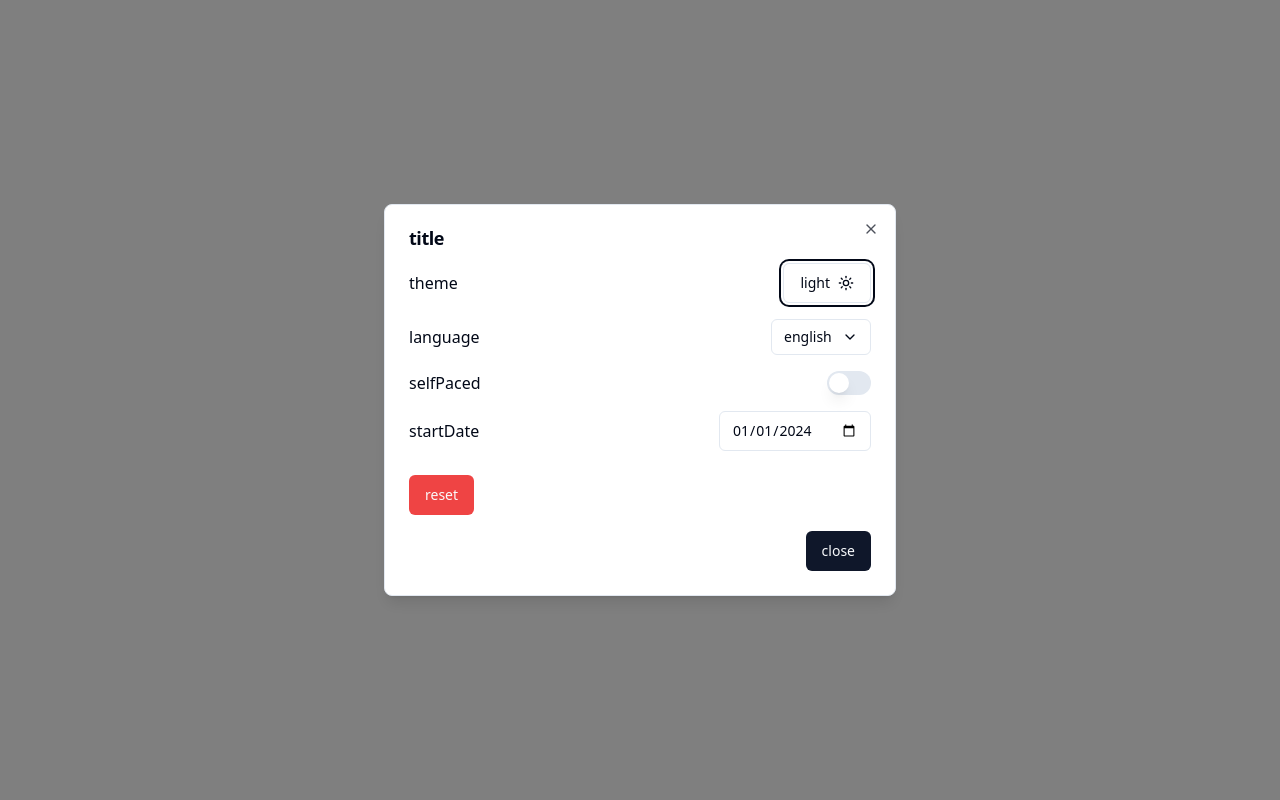
it: SettingsDialog › Theme Switcher › should cycle through light, dark, and system themes
This screenshot has width=1280, height=800.
Expected: the text "light" is shown, [800,273,830,293]
Step 1. Click the button with aria-label "toggleTheme" → (827, 283), box [784,263,871,303]
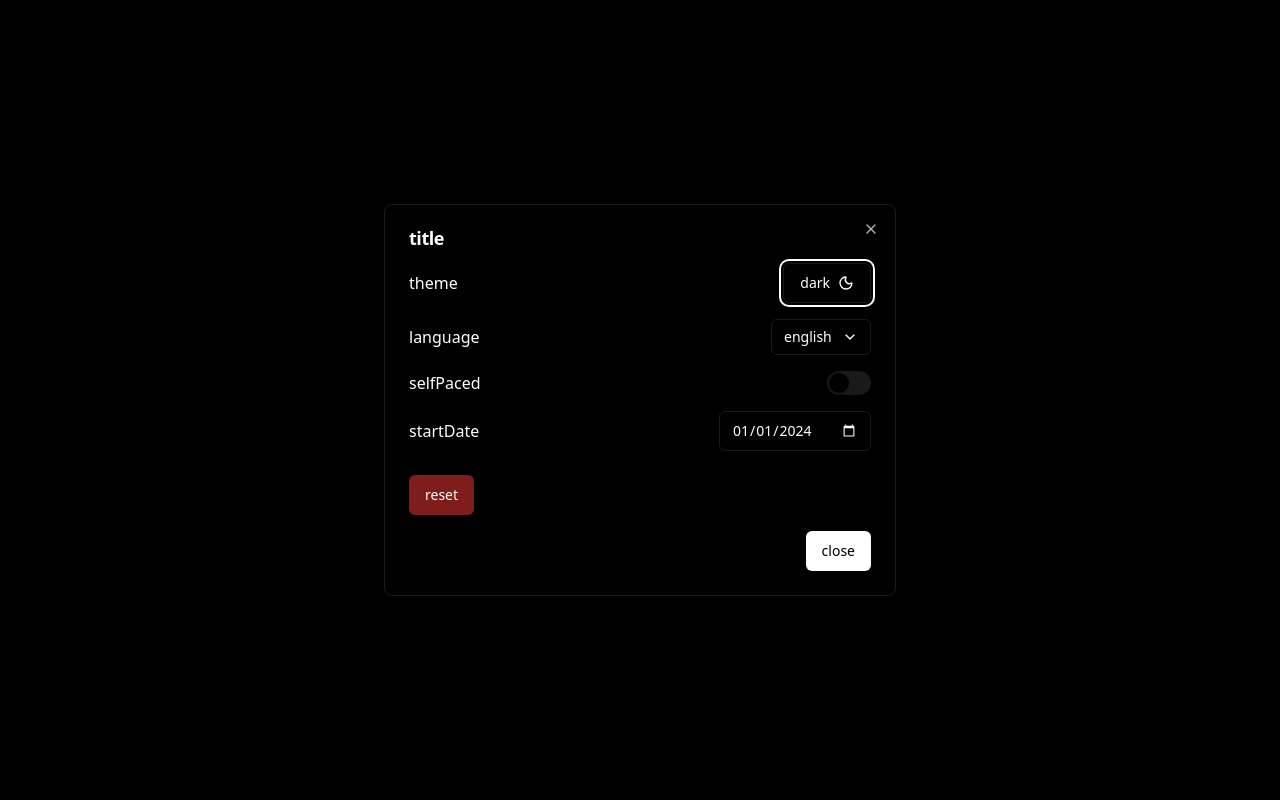
Expected: the text "dark" is shown, [800,273,830,293]
Step 2. Click the button with aria-label "toggleTheme" → (827, 283), box [783,263,871,303]
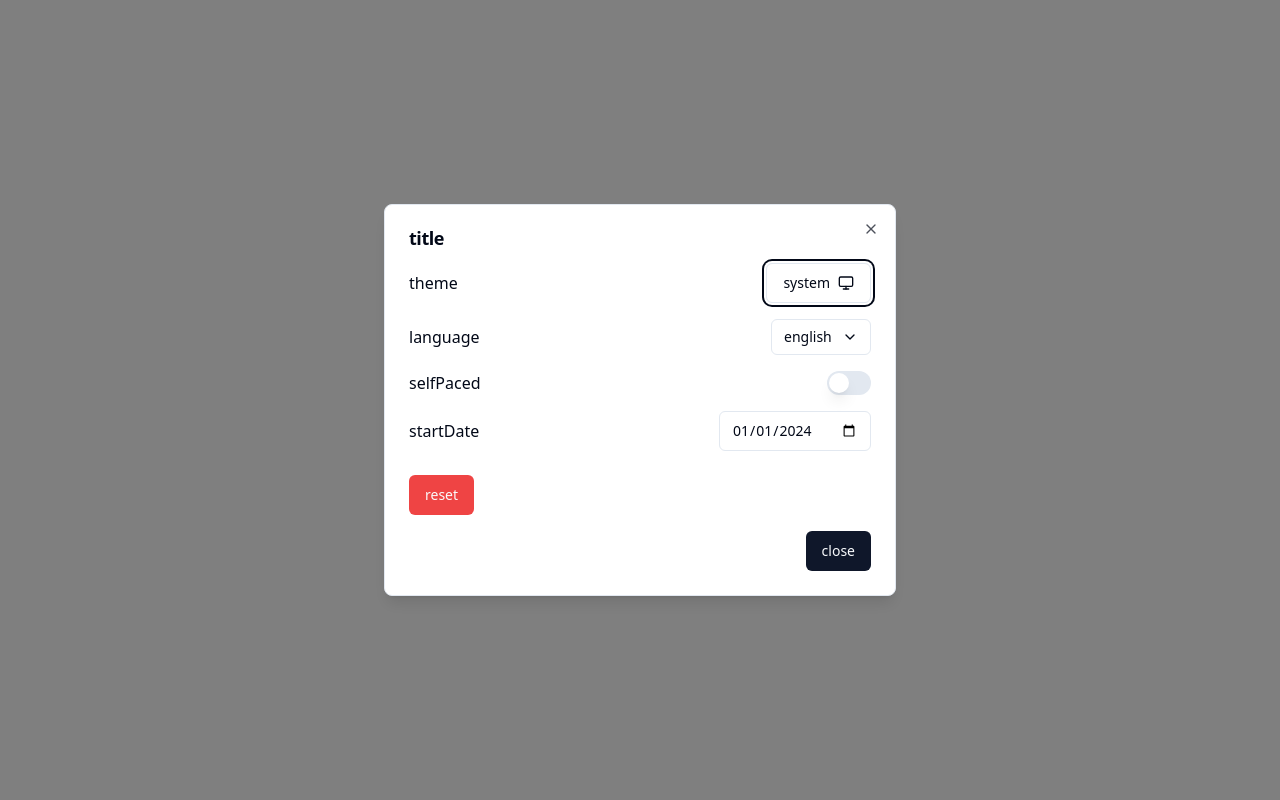
Expected: the text "system" is shown, [783,273,830,293]
Step 3. Click the button with aria-label "toggleTheme" → (819, 283), box [766,263,871,303]
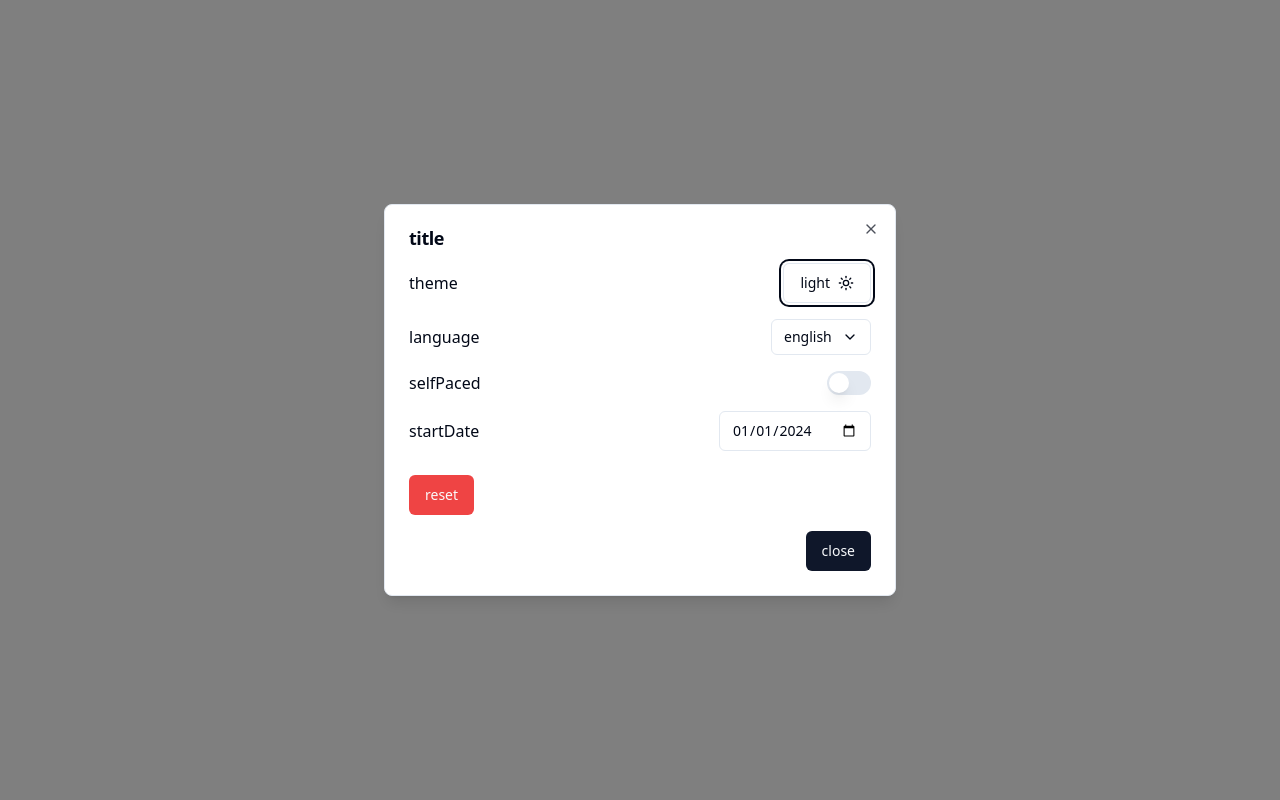
Expected: the text "light" is shown, [800,273,830,293]
